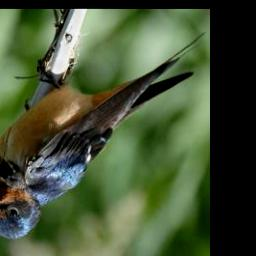Swallow: (0, 30, 207, 241)
